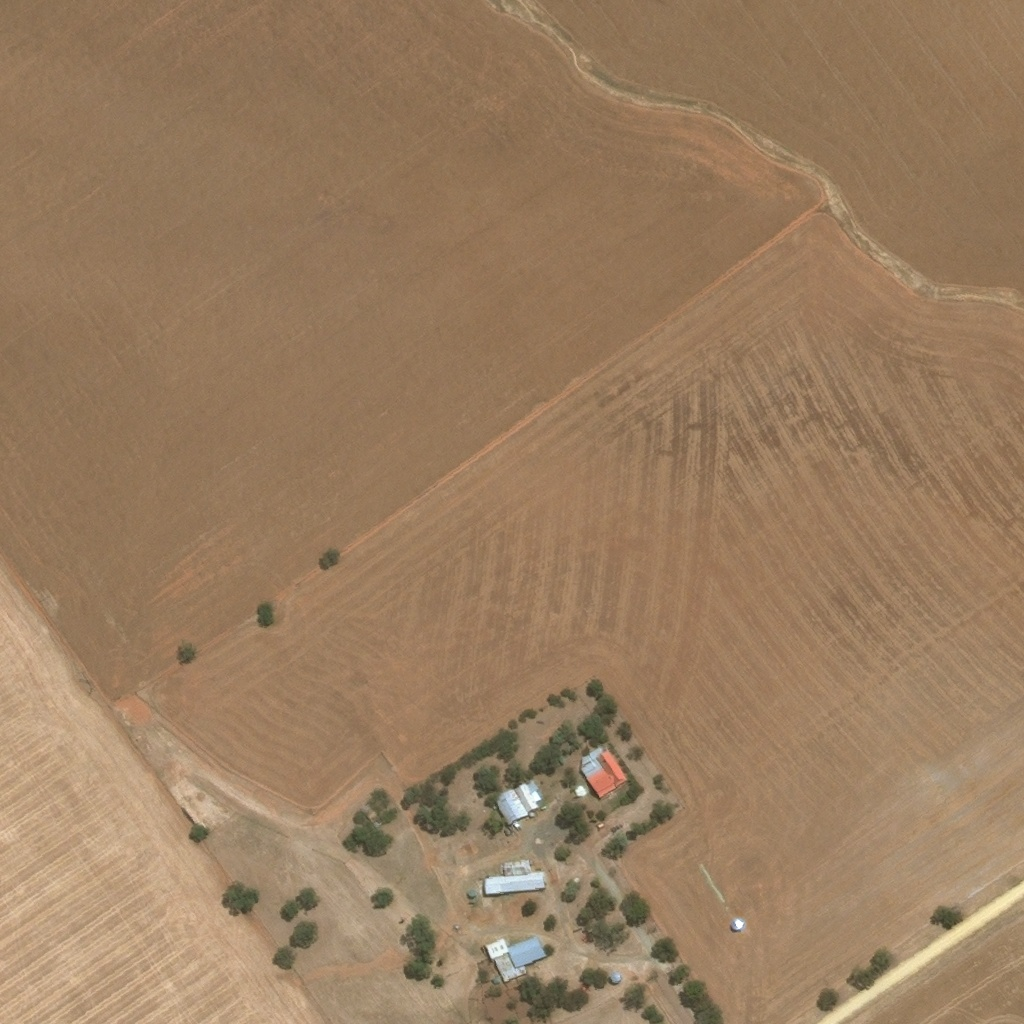0 no-damage: (484, 935, 546, 984), (580, 744, 629, 798), (483, 861, 545, 894), (493, 788, 527, 825), (513, 778, 542, 814), (572, 784, 587, 799), (464, 890, 474, 899)
4 un-classified: (357, 804, 387, 833), (512, 77, 522, 87)
